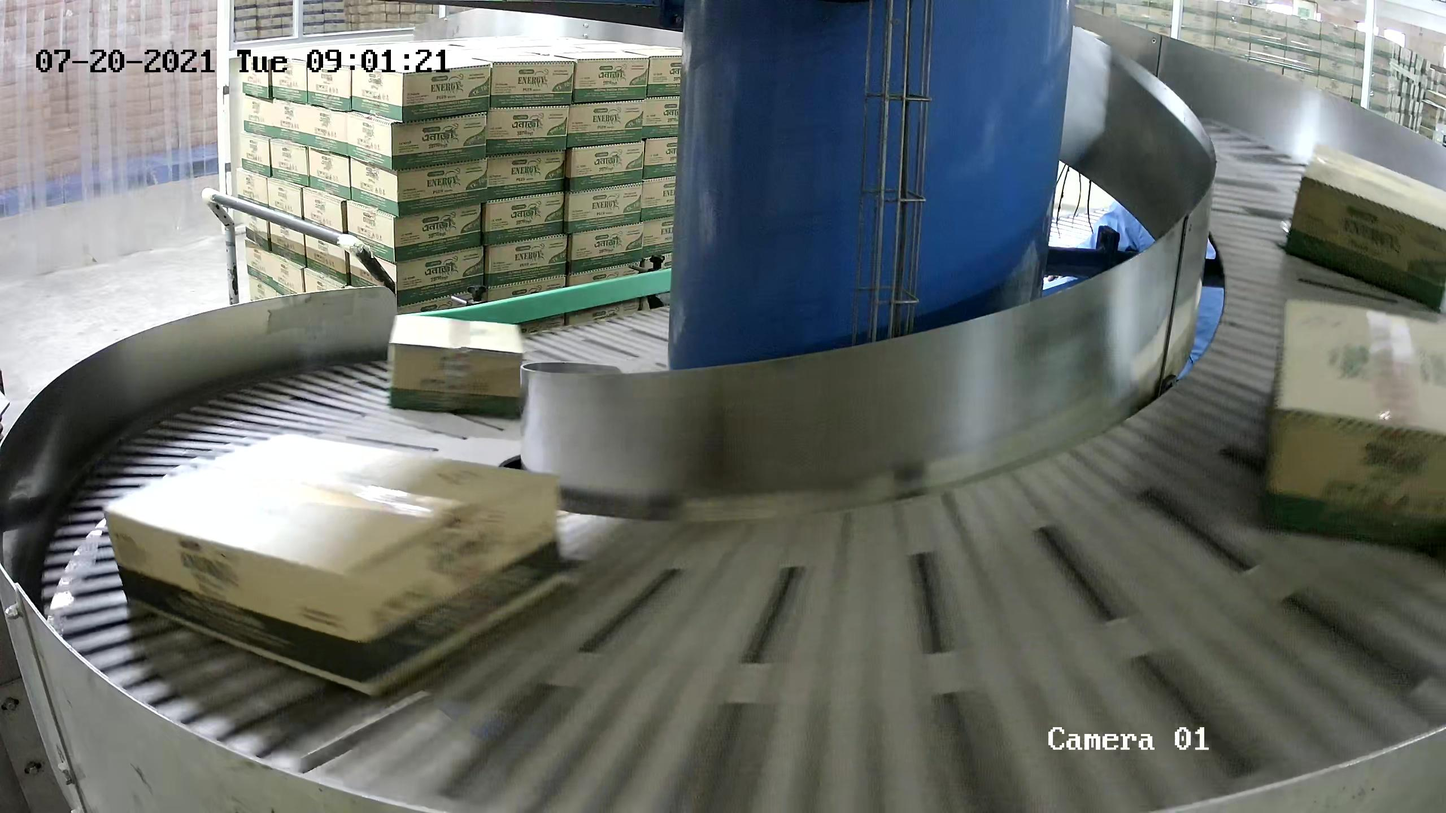Box: (101, 427, 565, 700), (1264, 292, 1446, 554), (1282, 139, 1446, 313), (386, 313, 526, 419)
